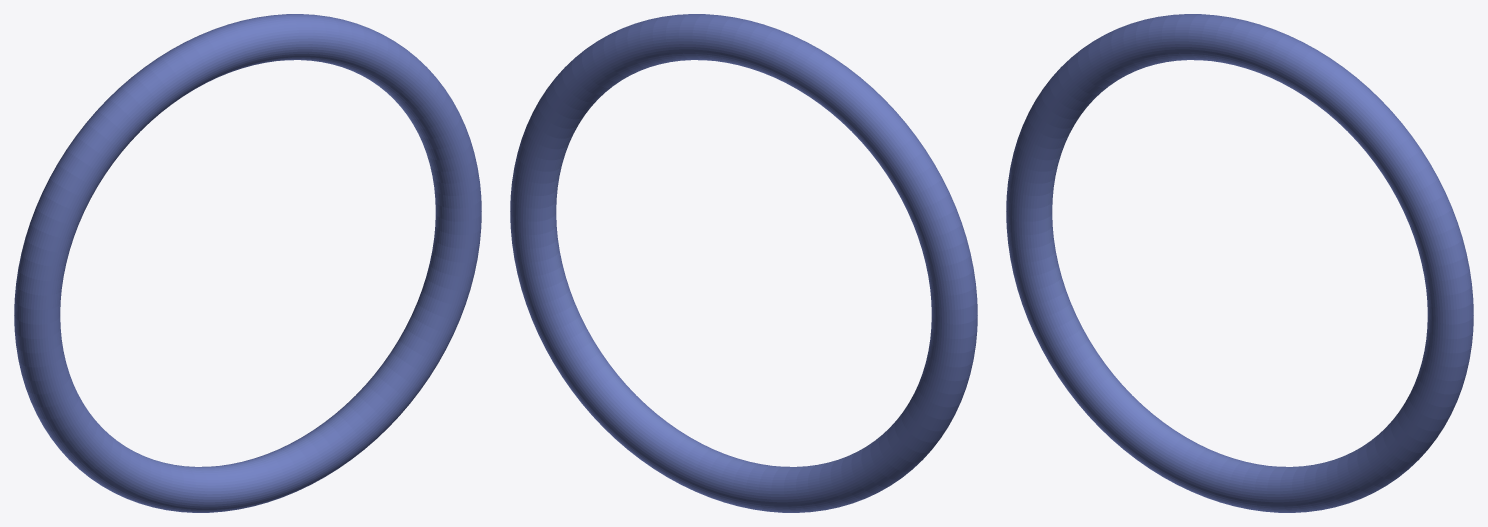
3 renders of one model, left to right at view 1: azimuth 30°, elevation 25°; view 2: azimuth 150°, elevation 25°; view 3: azimuth 330°, elevation 25°, orthographic.
Visible parts, largest first — view 1: world; view 2: world; view 3: world.
Part boxes in pixels (left/top/right/bottom): world: left=14, top=14, right=481, bottom=512; world: left=510, top=14, right=977, bottom=512; world: left=1006, top=14, right=1473, bottom=512.
Bounding box in the file's own units: 23.11 × 23.11 × 2.
